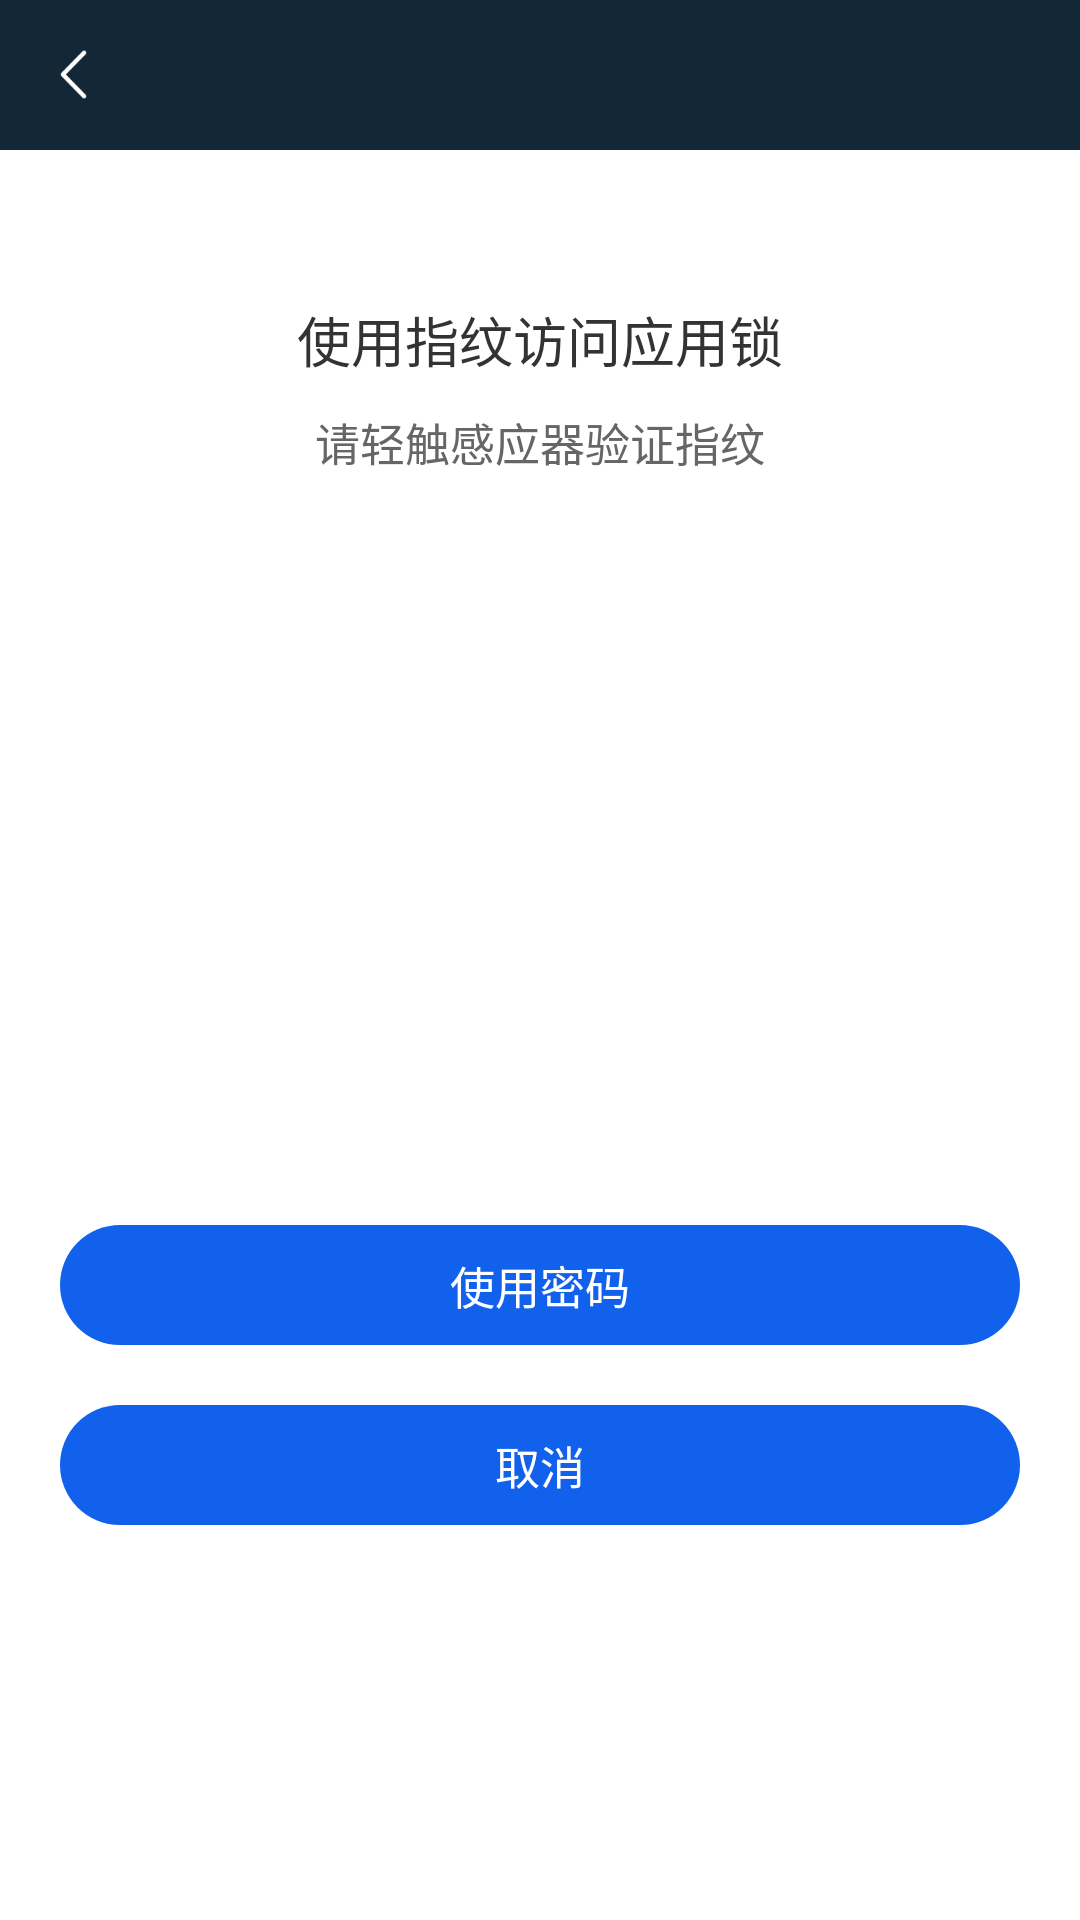

Named icons in this screenshot (1080×1920) and their centers, point (x, y):
left arrow: point (73, 74)
